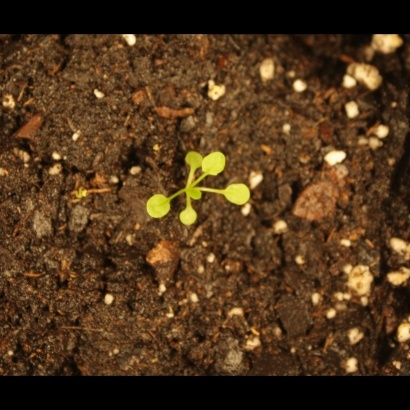leaf: (221, 181, 253, 209), (145, 192, 173, 220), (199, 151, 230, 176), (181, 147, 206, 175), (177, 204, 203, 229), (184, 181, 207, 204)
